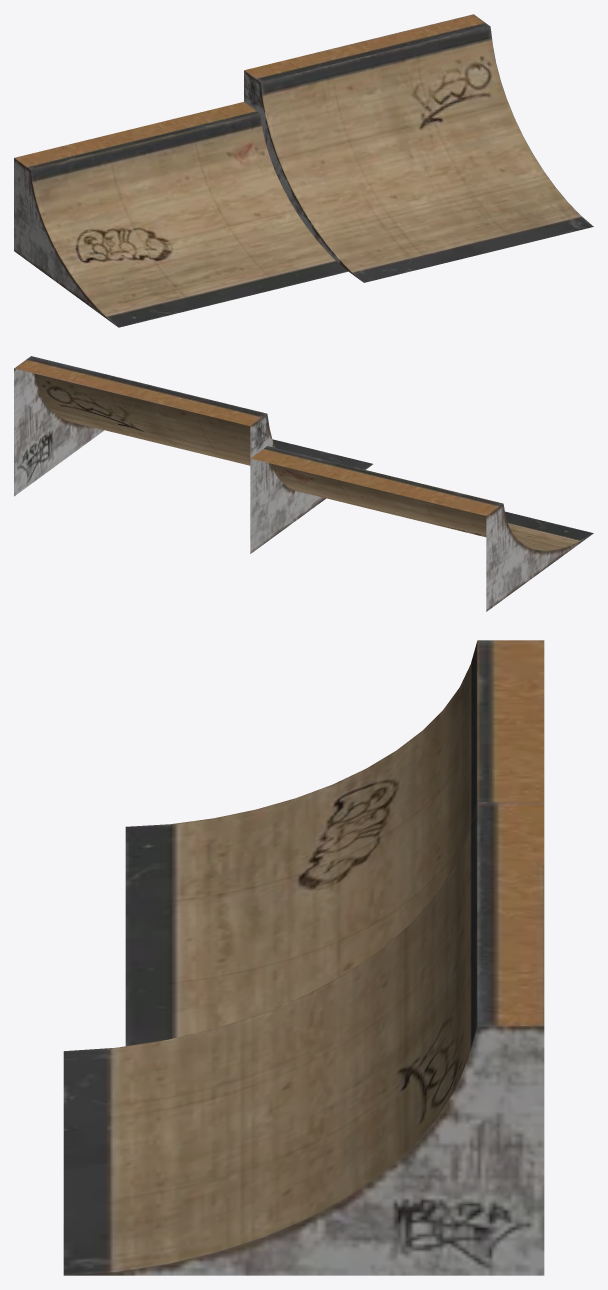
File: skate-ramp.lod0.glb
3 renders of one model, top to bottom at view 1: azimuth 30°, elevation 25°; view 2: azimuth 150°, elevation 25°; view 3: azimuth 270°, elevation 25°, orthographic. The views are drawn at different scales.
Visible parts, largest first — view 1: DoubleRamp_M_Ramp2_0; view 2: DoubleRamp_M_Ramp2_0; view 3: DoubleRamp_M_Ramp2_0.
Boxes of the visible parts, box(x1,y1,x2,y2) form: DoubleRamp_M_Ramp2_0: box(14, 14, 593, 327); DoubleRamp_M_Ramp2_0: box(14, 356, 593, 611); DoubleRamp_M_Ramp2_0: box(63, 640, 544, 1275).
Size of the model in its own units: 10.33 by 2.68 by 4.67.
1 material, 1 textured.
